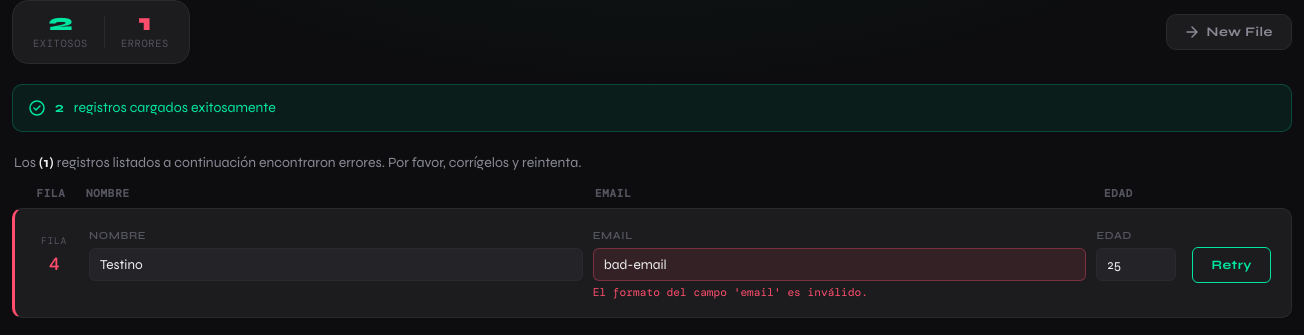
Test: ResultsView › shows validation error when retrying with empty name
Clear the field with test id "name-input-4" at x=336, y=264, box x1=89 y1=248 x2=583 y2=281
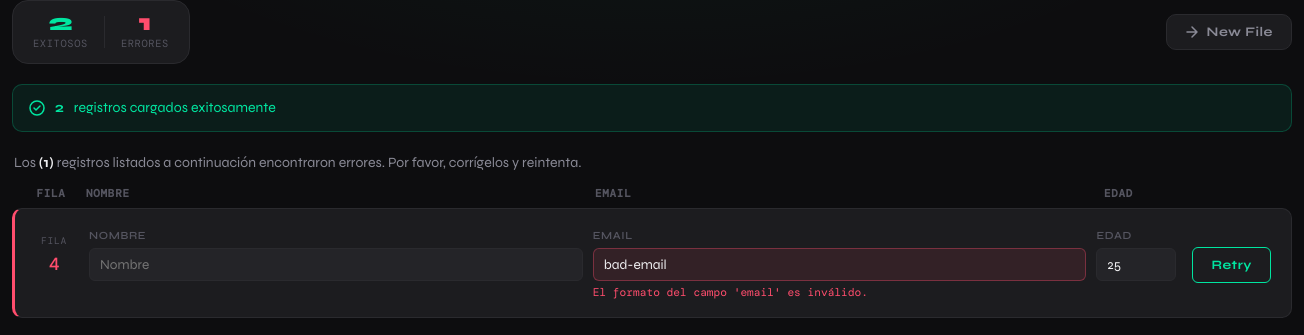
Click the button with test id "retry-btn-4" at x=1232, y=265, box x1=1192 y1=247 x2=1271 y2=283
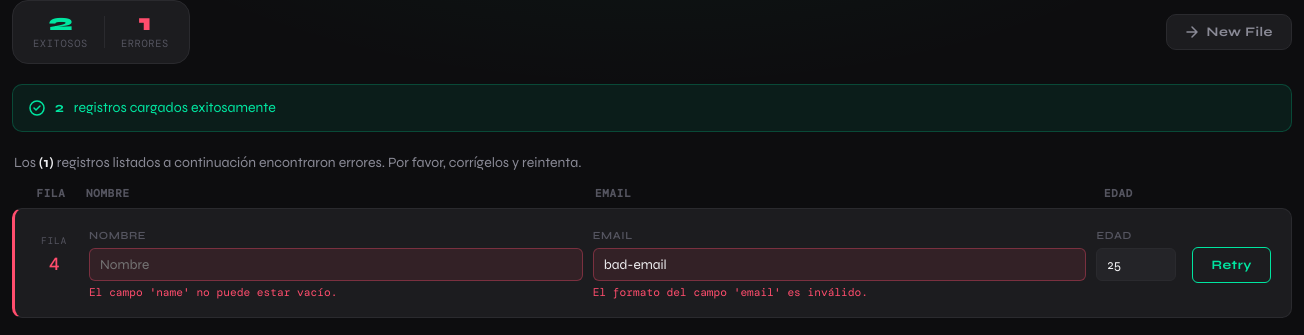
expect the text "El campo 'name' no puede estar vacío." is shown: met, box x1=89 y1=285 x2=337 y2=299
